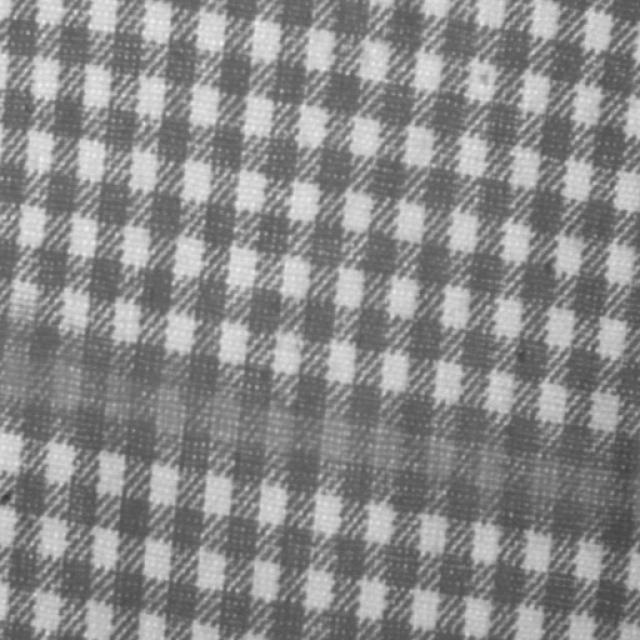Stain-Defect: (0, 349, 618, 520)
